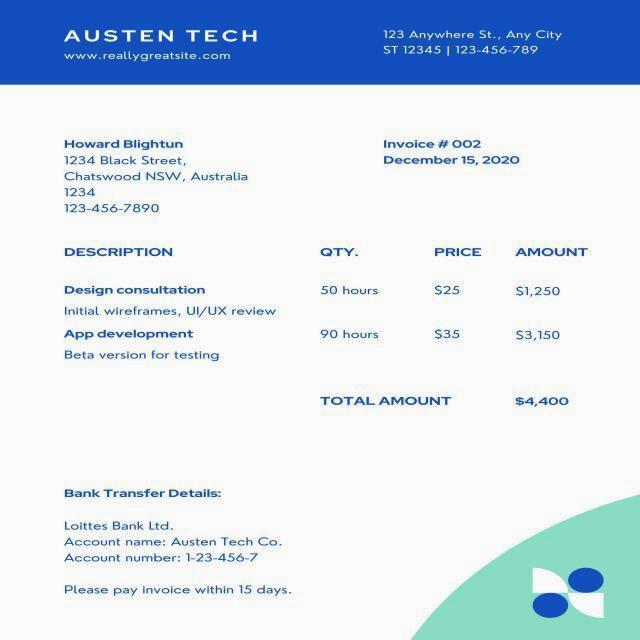paragraph: (51, 476, 294, 568), (51, 128, 254, 221), (371, 21, 588, 70), (316, 384, 587, 418), (374, 131, 534, 176), (54, 574, 300, 601), (44, 17, 268, 45), (58, 49, 242, 67)
table: (53, 238, 603, 373)
